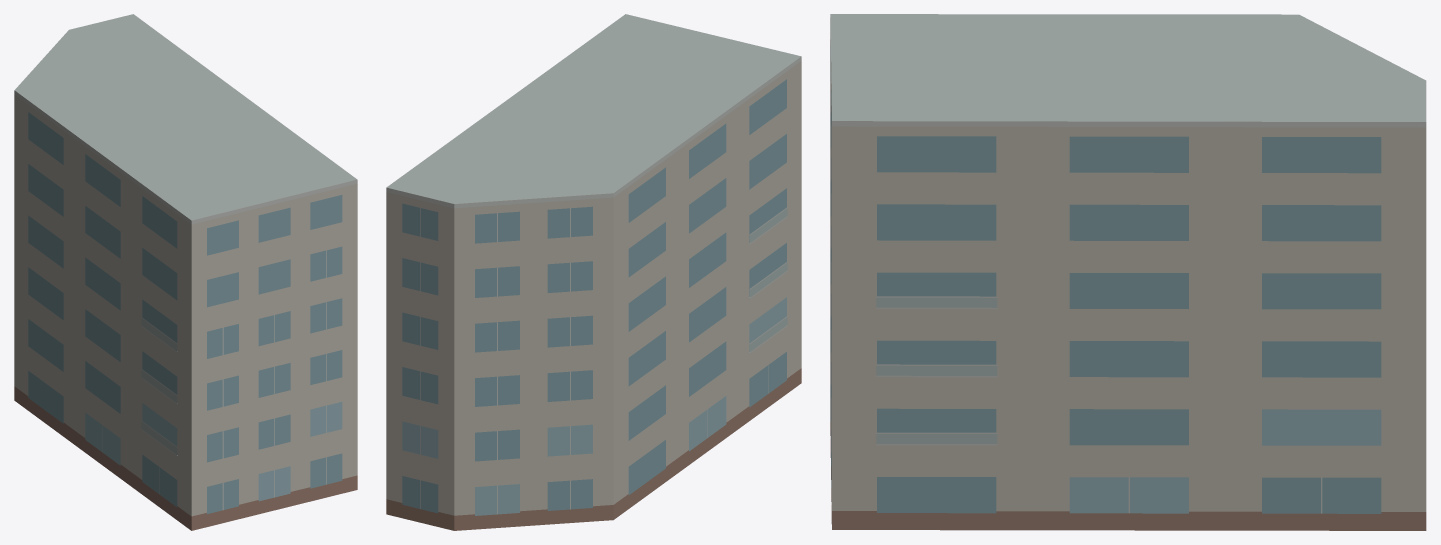
Rendered from survey-upis-32815860.glb.
3 views of the same model, side by side, from view 1: azimuth 30°, elevation 25°; view 2: azimuth 150°, elevation 25°; view 3: azimuth 270°, elevation 25° (orthographic). The views are drawn at different scales.
Visible parts, largest first — view 1: survey-upis-32815860.tmp; view 2: survey-upis-32815860.tmp; view 3: survey-upis-32815860.tmp.
Part boxes in pixels (x1,y1,x2,y2): survey-upis-32815860.tmp: (14, 14, 357, 530); survey-upis-32815860.tmp: (386, 14, 801, 530); survey-upis-32815860.tmp: (830, 14, 1426, 530).
Size of the model in its own units: 10.53 by 18.5 by 24.46.
